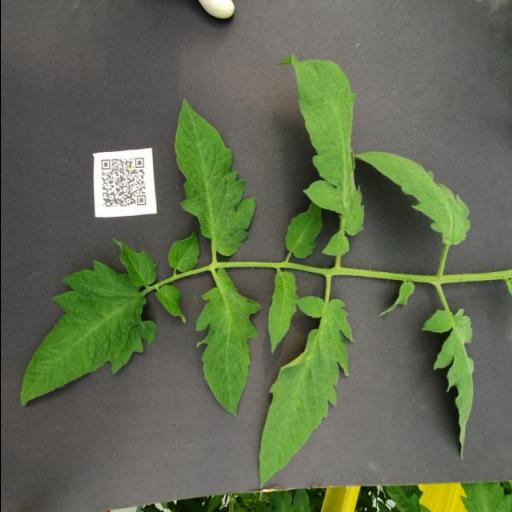Healthy: (18, 259, 156, 407), (256, 295, 354, 489), (274, 54, 364, 258), (173, 98, 255, 258), (352, 152, 470, 246), (194, 268, 262, 418), (420, 308, 474, 461), (266, 271, 298, 354), (284, 202, 323, 258)
